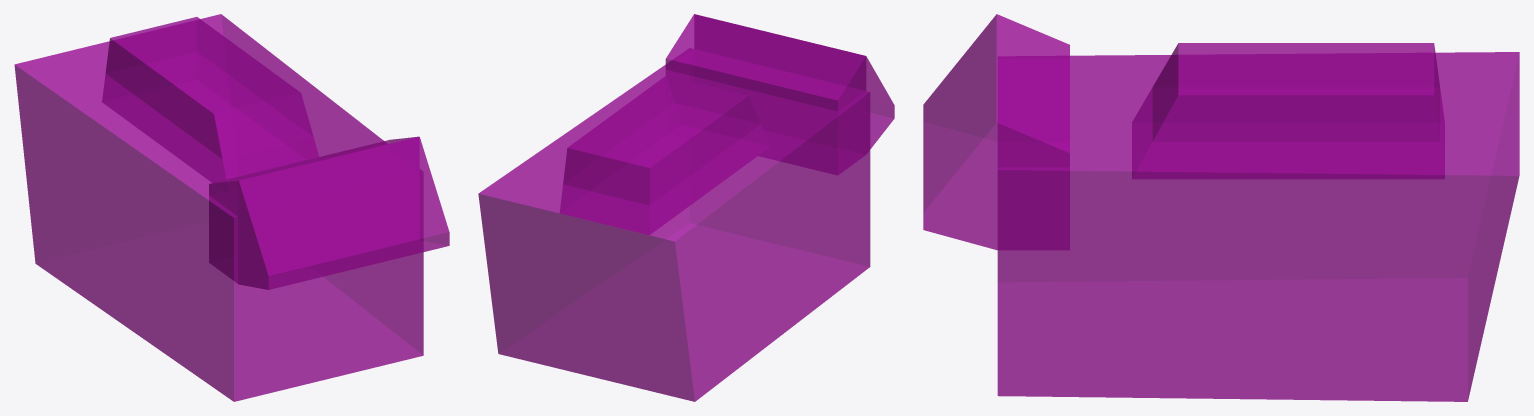
The model's file is SM_Prop_Cockpit_01_Collision.fbx.
3 views of the same model, side by side, from view 1: azimuth 30°, elevation 25°; view 2: azimuth 150°, elevation 25°; view 3: azimuth 270°, elevation 25° (orthographic). The views are drawn at different scales.
Visible parts, largest first — view 1: SM_Prop_Cockpit_01_Collision; view 2: SM_Prop_Cockpit_01_Collision; view 3: SM_Prop_Cockpit_01_Collision.
Part boxes in pixels (x1,y1,x2,y2): SM_Prop_Cockpit_01_Collision: (14,14,449,401); SM_Prop_Cockpit_01_Collision: (478,14,894,401); SM_Prop_Cockpit_01_Collision: (923,14,1519,401).
Bounding box in the file's own units: 163 × 167 × 331.
